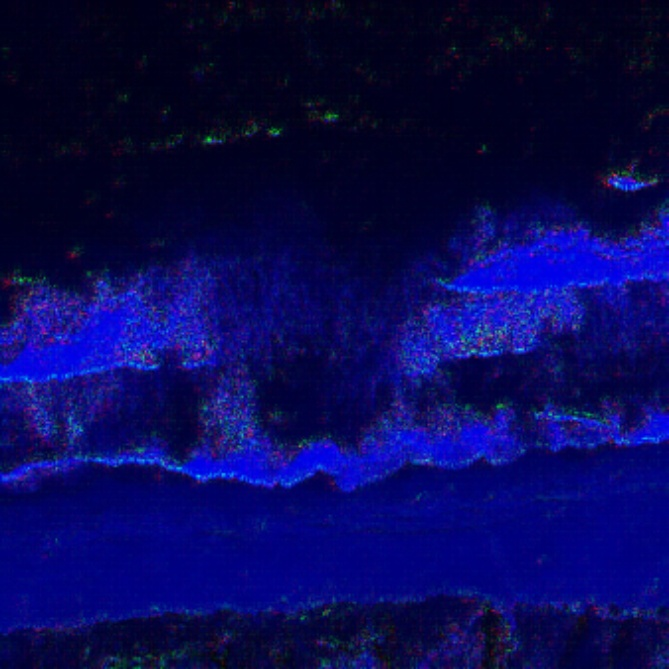rip_current: (169, 155, 410, 456)
